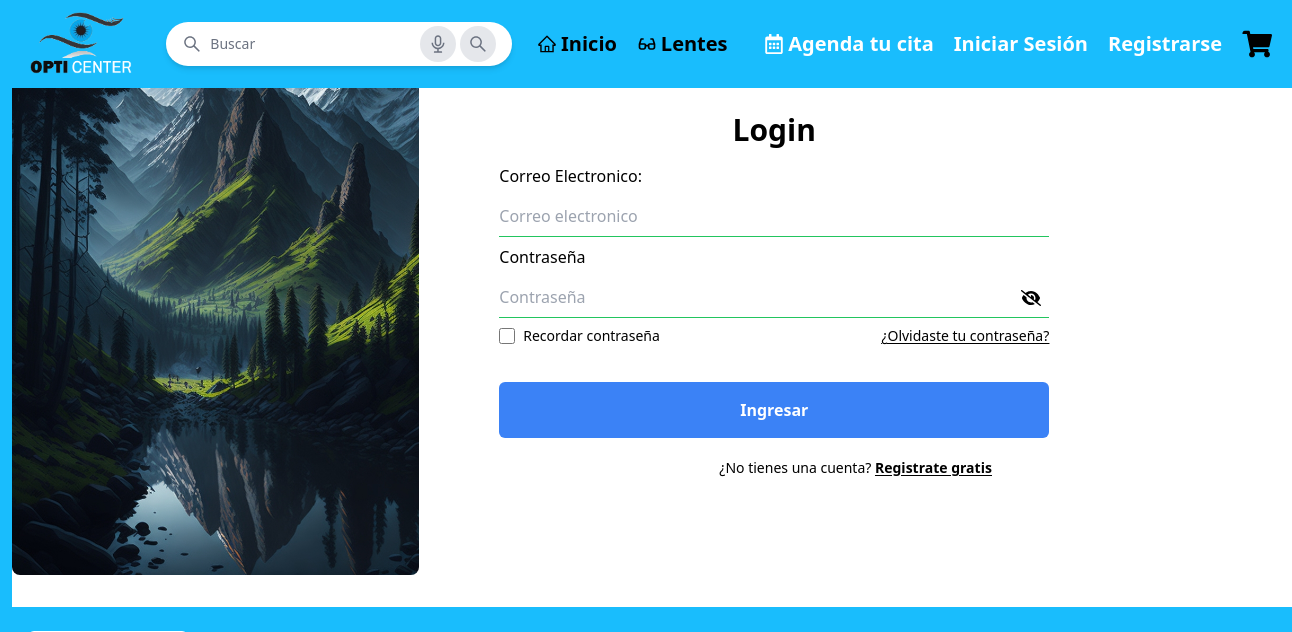
Validación de Campos › Mostrar error cuando el correo está vacío en el formulario de inicio de sesión
The image size is (1292, 632).
Step 1. Type "password123" into the password field with placeholder "Contraseña" → (774, 298), box 499,277 -> 1049,318
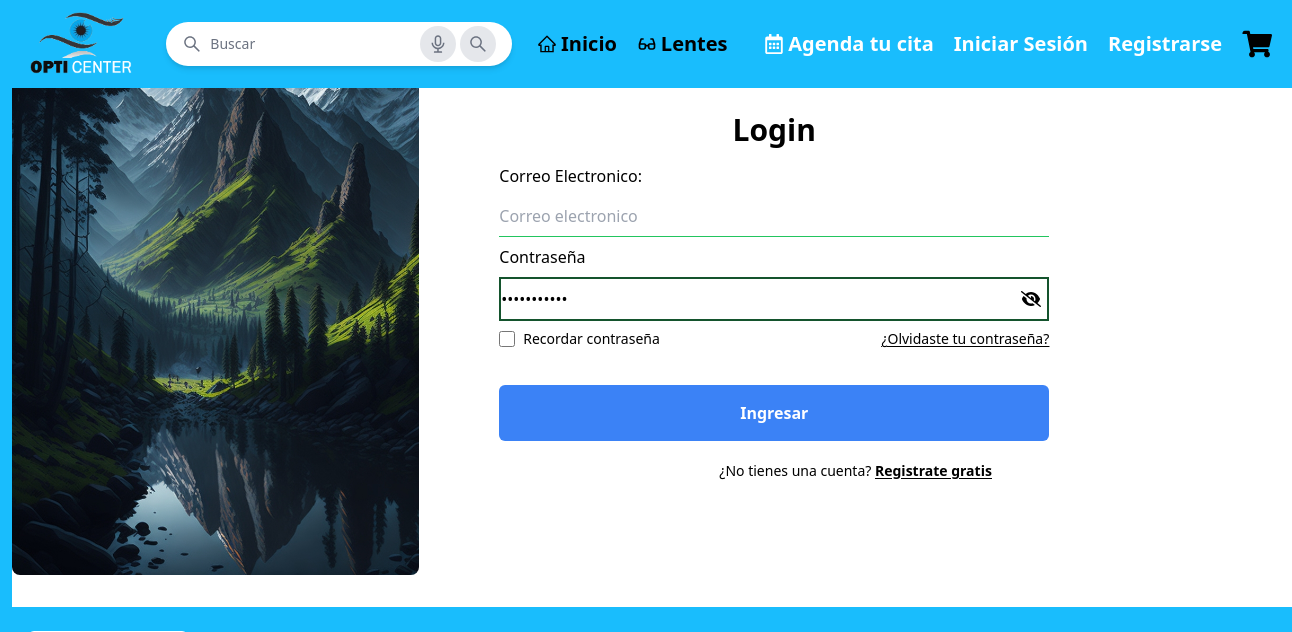
Step 2. Click the submit button → click(774, 413), box 499,385 -> 1049,441
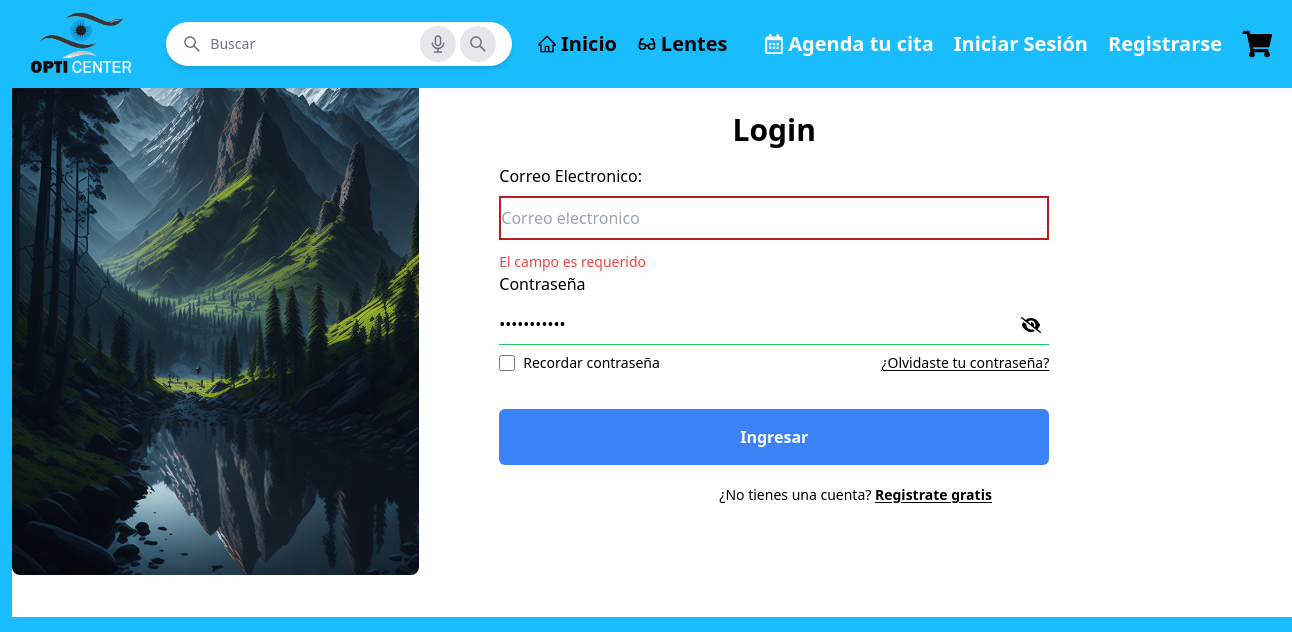
Now the text "El campo es requerido" is shown, box 499,252 -> 646,271
